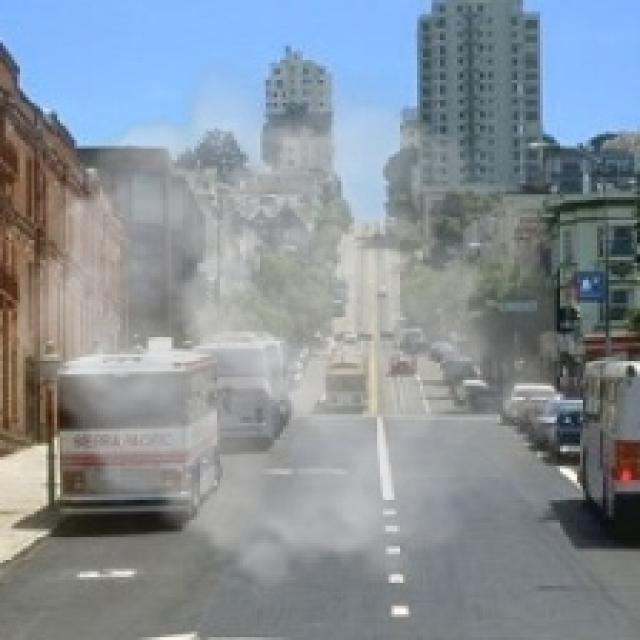Smoke: (17, 57, 557, 609)
